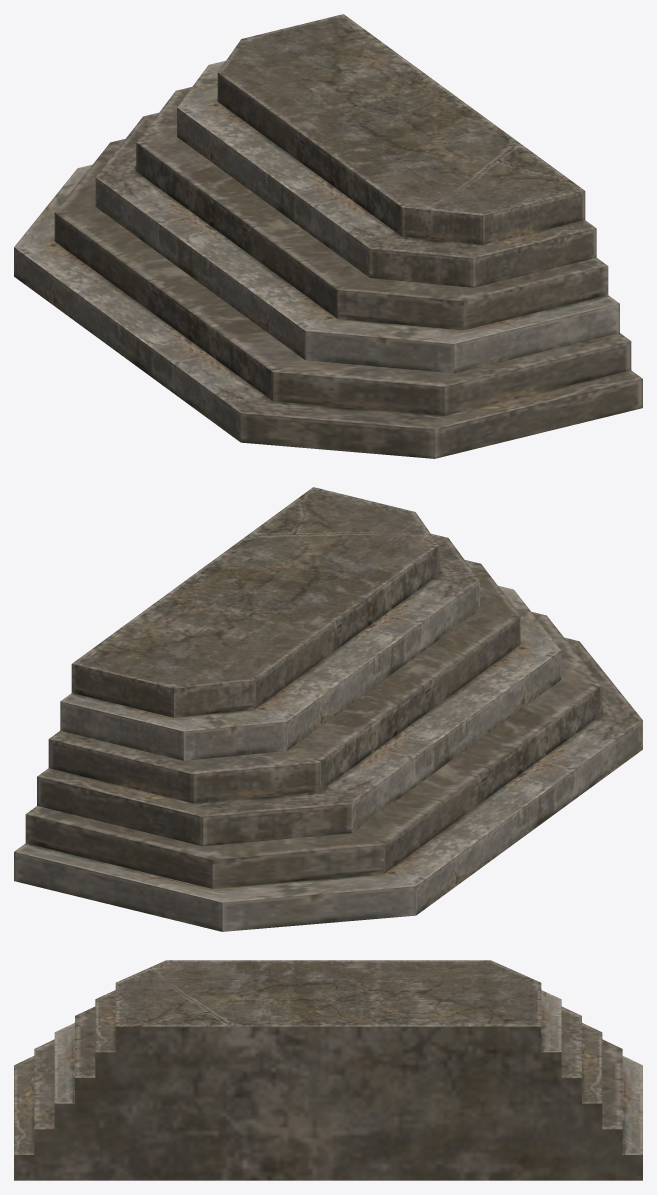
File: bg_lut_lutomb_stair03_sm_old.FBX
3 views of the same model, one above another, from view 1: azimuth 30°, elevation 25°; view 2: azimuth 150°, elevation 25°; view 3: azimuth 270°, elevation 25° (orthographic). The views are drawn at different scales.
Visible parts, largest first — view 1: bg_lut_lutomb_stair03_sm_old; view 2: bg_lut_lutomb_stair03_sm_old; view 3: bg_lut_lutomb_stair03_sm_old.
Part boxes in pixels (x1,y1,x2,y2): bg_lut_lutomb_stair03_sm_old: (14,14,642,458); bg_lut_lutomb_stair03_sm_old: (14,487,642,931); bg_lut_lutomb_stair03_sm_old: (14,960,642,1180).
Bounding box in the file's own units: 258 × 128 × 473.
